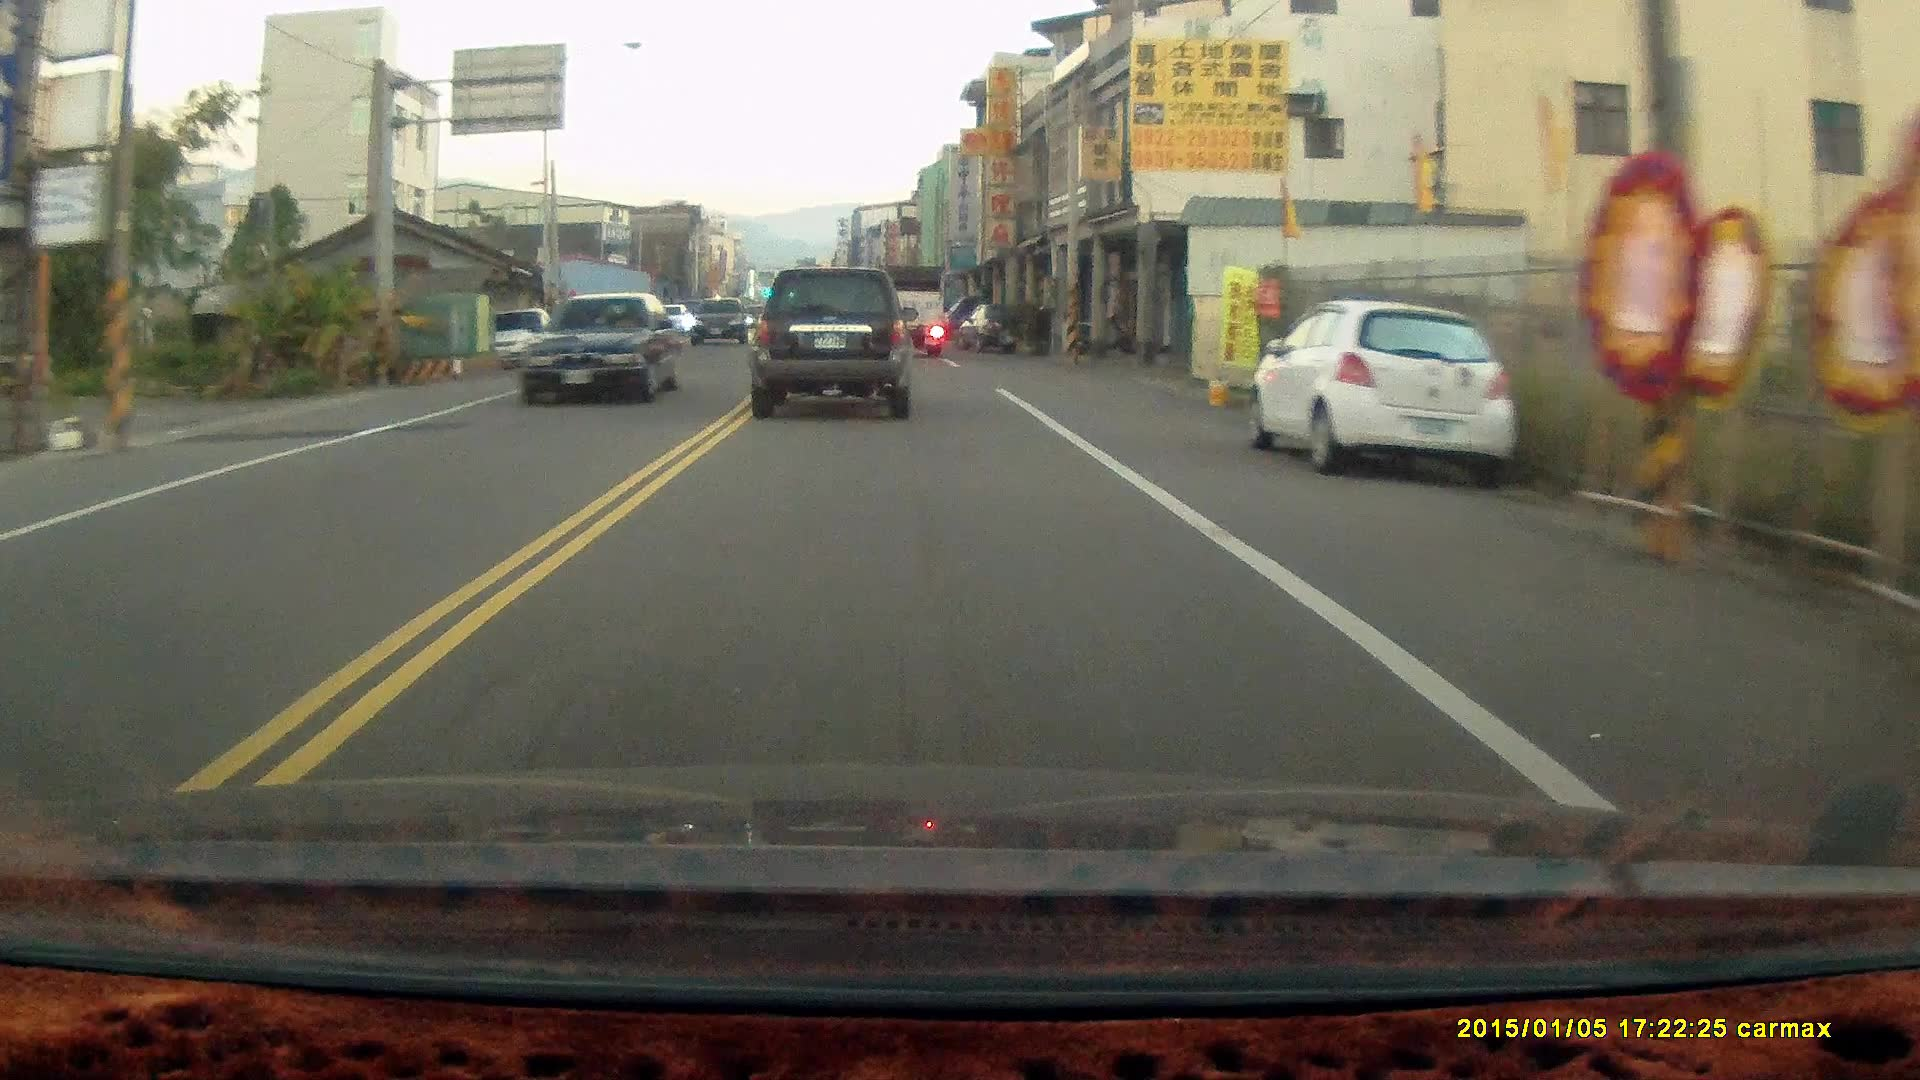vehicle: (1251, 301, 1519, 492), (746, 268, 918, 425), (520, 291, 688, 410), (874, 262, 951, 360), (476, 309, 560, 369), (691, 298, 753, 351)
